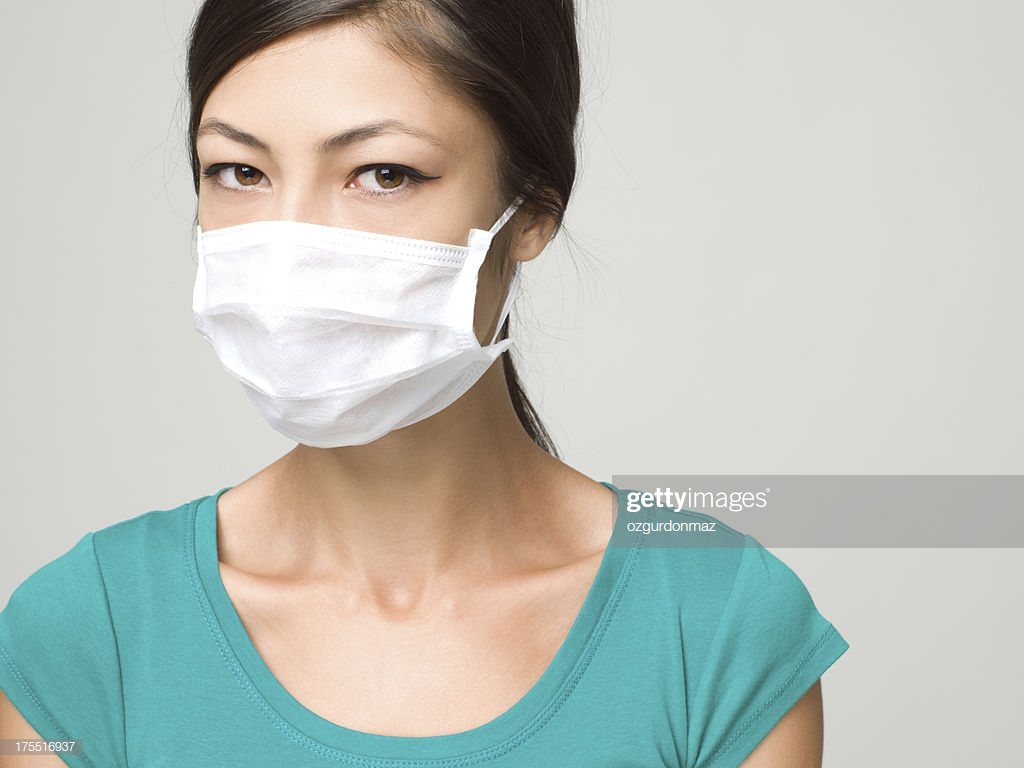mask: (177, 235, 513, 453)
